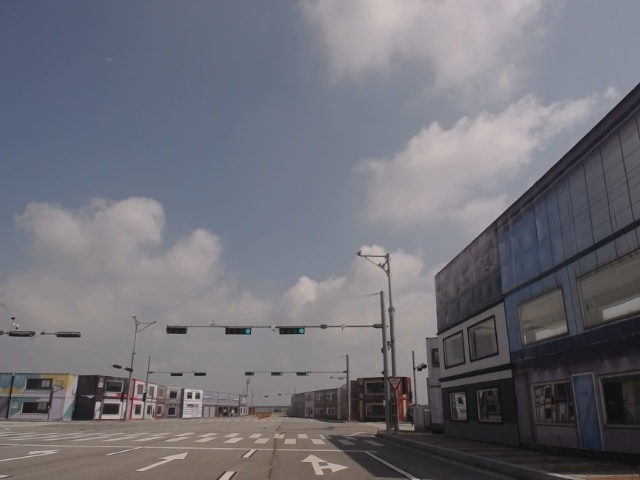straight_green_4: (225, 326, 252, 335), (279, 327, 304, 334)
